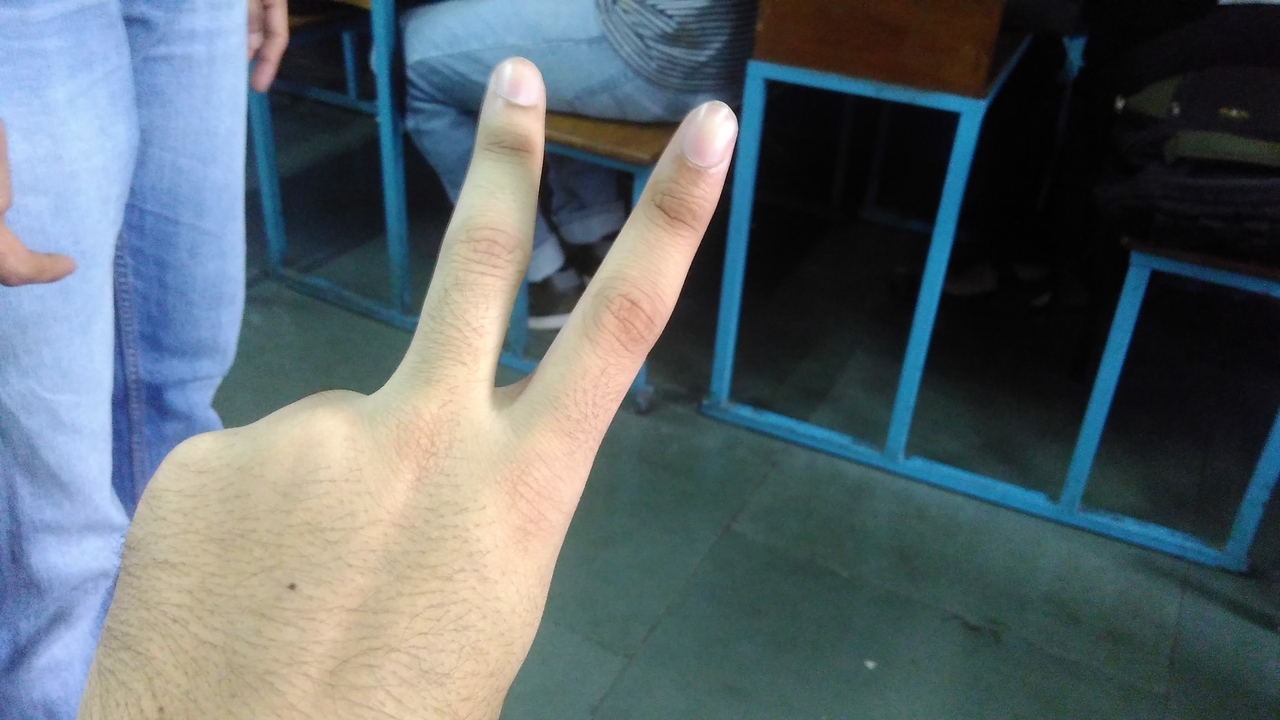fingertip: (666, 86, 746, 166), (478, 52, 546, 116)
